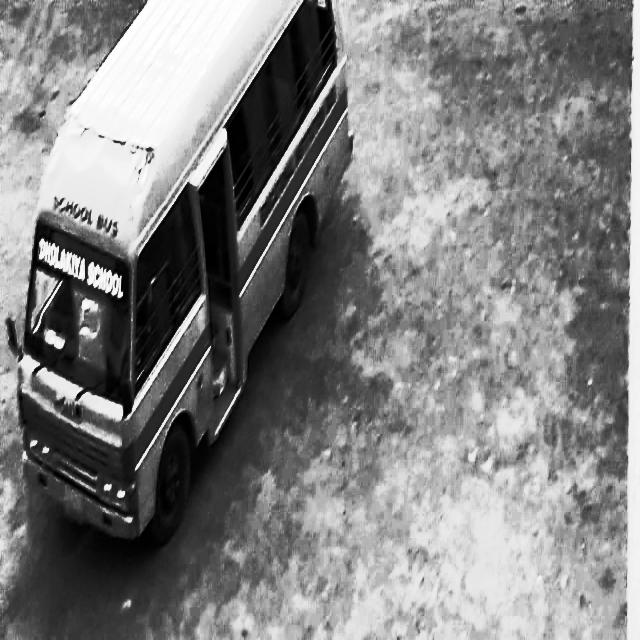Bus: (11, 5, 353, 549)
